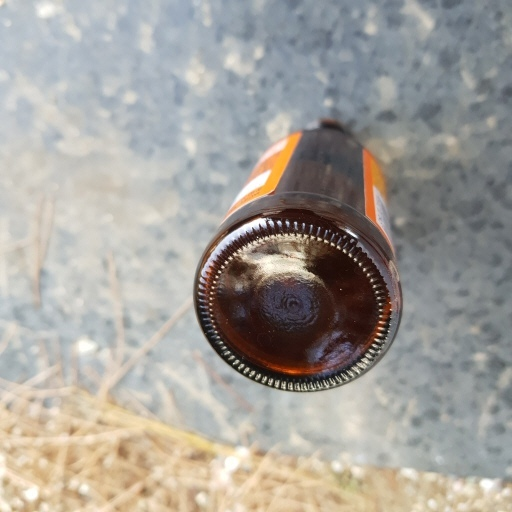Glass_3: (189, 113, 407, 394)
